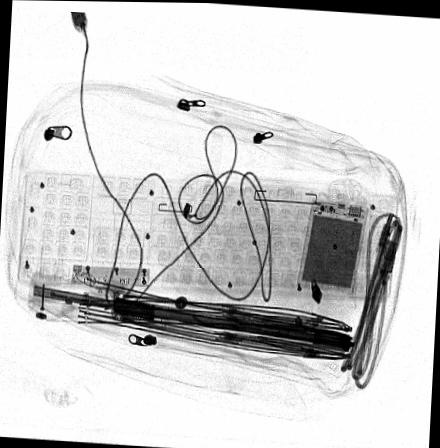Powerbank: (295, 196, 368, 296)
